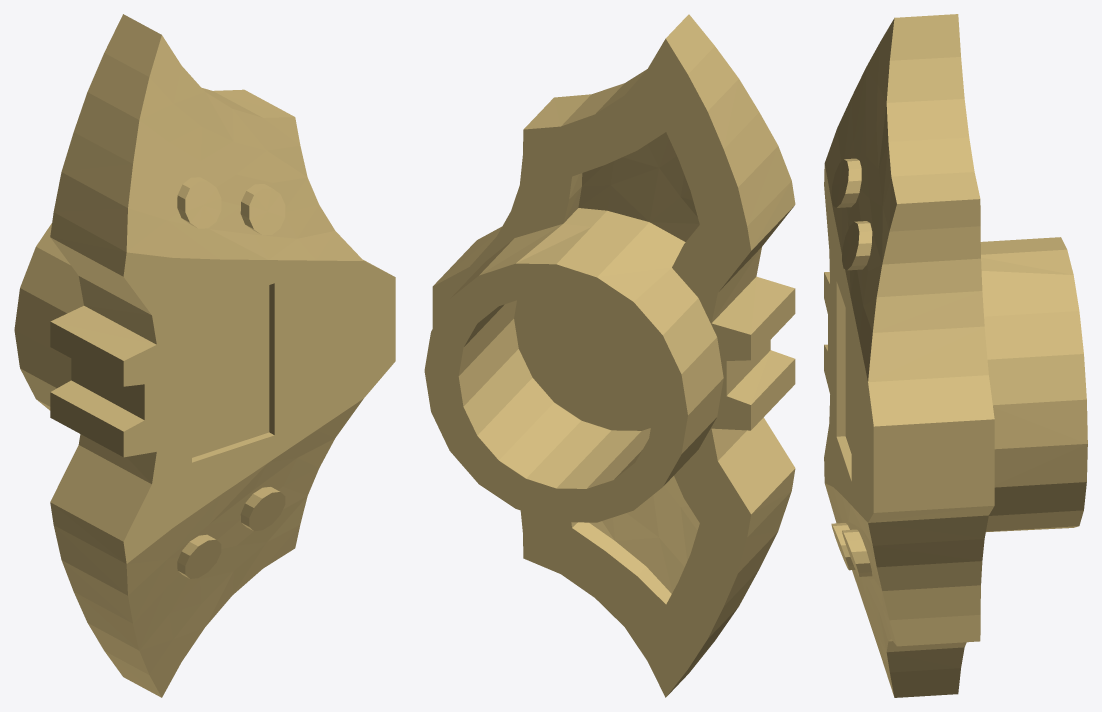
Rendered from MiniBat.fbx.
The picture shows the model from 3 angles, left to right: view 1: azimuth 30°, elevation 25°; view 2: azimuth 150°, elevation 25°; view 3: azimuth 270°, elevation 25°; orthographic projection. The views are drawn at different scales.
Visible parts, largest first — view 1: MB_5-material.092; view 2: MB_5-material.092; view 3: MB_5-material.092.
Boxes of the visible parts, <box> form: MB_5-material.092: <box>14,14,395,697</box>; MB_5-material.092: <box>424,14,795,697</box>; MB_5-material.092: <box>824,14,1087,697</box>.
Bounding box in the file's own units: 66.3 × 135 × 47.54.
